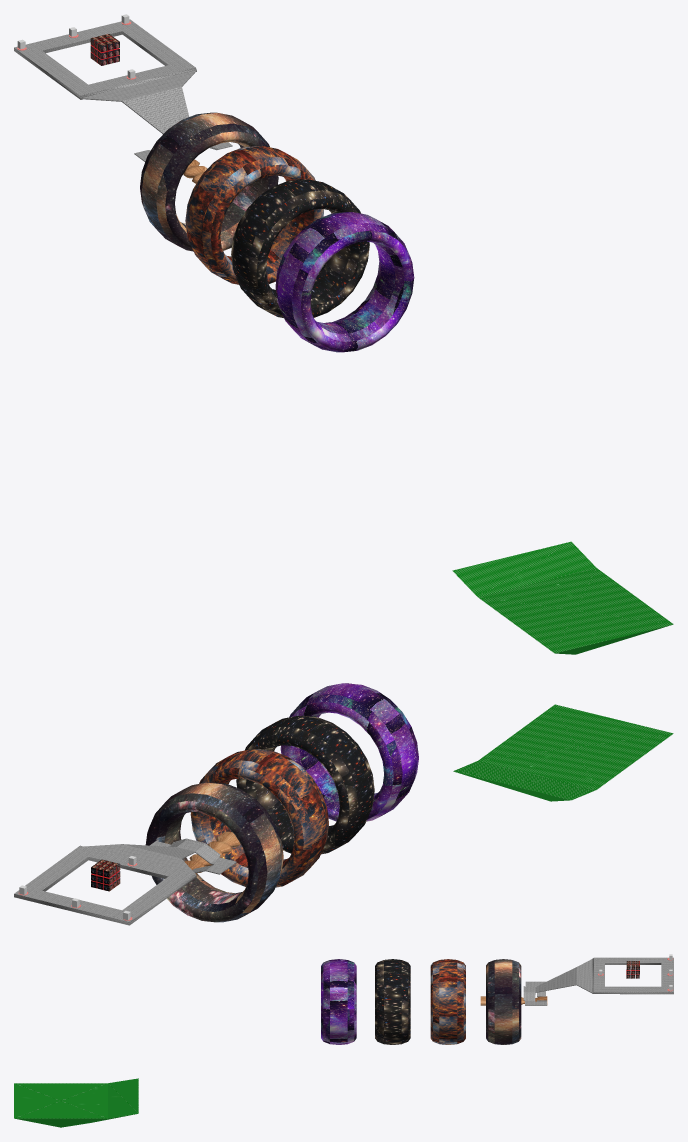
Rendered from Level7.FBX.
3 views of the same model, one above another, from view 1: azimuth 30°, elevation 25°; view 2: azimuth 150°, elevation 25°; view 3: azimuth 270°, elevation 25° (orthographic). The views are drawn at different scales.
Visible parts, largest first — view 1: Pyramid001, Torus004, Torus003, Tube001, Torus001, Torus002; view 2: Pyramid001, Torus001, Torus002, Torus003, Torus004, Tube001, WeirdHoveringPlatform; view 3: Pyramid001, Tube001, Torus002, Torus001, Torus003, Torus004.
Part boxes in pixels (box(x1,y1,x2,y2)): Pyramid001: box(452, 541, 673, 654); Torus004: box(275, 212, 414, 352); Torus003: box(231, 179, 369, 317); Tube001: box(14, 19, 232, 161); Torus001: box(140, 112, 278, 251); Torus002: box(185, 146, 323, 284); Pyramid001: box(453, 704, 673, 801); Torus001: box(145, 782, 283, 922); Torus002: box(190, 749, 328, 887); Torus003: box(236, 715, 374, 854); Torus004: box(280, 683, 418, 821); Tube001: box(14, 838, 236, 925); WeirdHoveringPlatform: box(184, 831, 240, 875); Pyramid001: box(14, 1078, 138, 1127); Tube001: box(523, 957, 673, 1005); Torus002: box(430, 959, 465, 1044); Torus001: box(486, 959, 521, 1044); Torus003: box(375, 959, 410, 1044); Torus004: box(321, 959, 356, 1044).
Size of the model in its own units: 428 by 896 by 3265.
10 materials, 10 textured.
